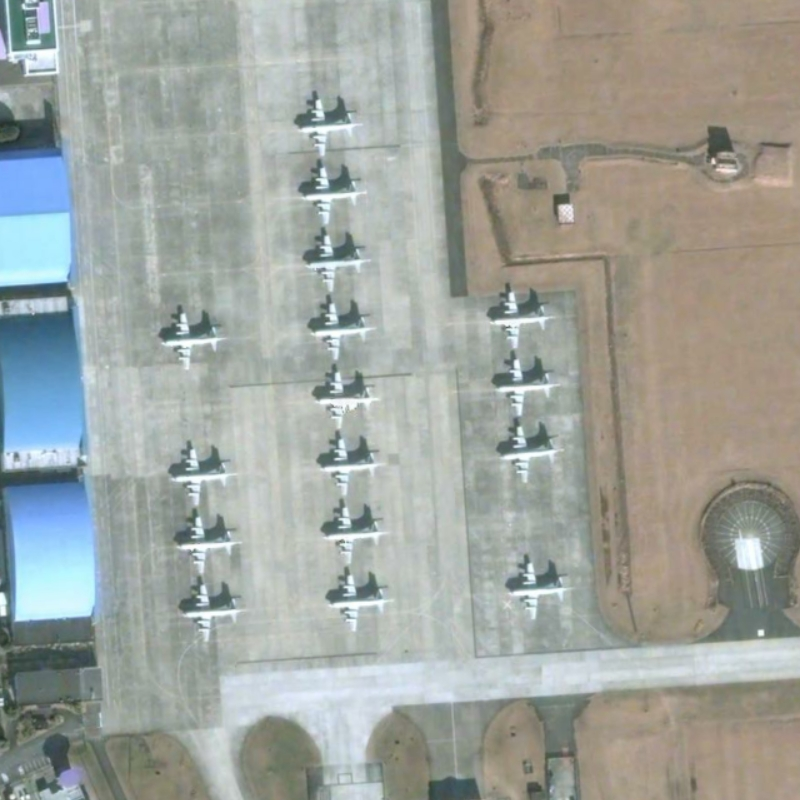A9: (305, 431, 390, 501), (302, 295, 388, 364), (481, 280, 560, 355), (154, 300, 236, 371), (169, 578, 250, 649), (501, 546, 576, 622), (162, 435, 240, 508), (293, 230, 380, 295), (482, 350, 565, 418), (493, 414, 569, 488), (293, 162, 374, 231), (304, 359, 383, 428), (173, 511, 250, 580), (316, 500, 395, 564), (323, 563, 397, 631), (292, 90, 362, 161)
